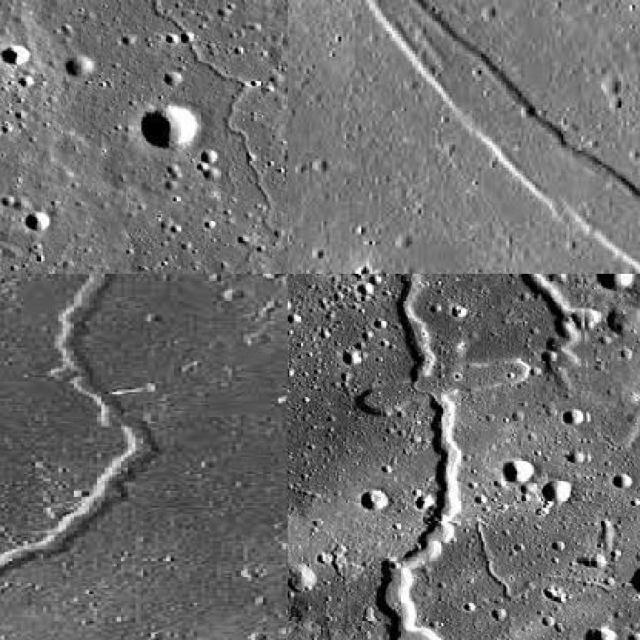rille: (287, 0, 638, 272), (0, 274, 169, 638), (101, 0, 286, 272), (0, 274, 286, 437), (374, 274, 463, 638), (483, 274, 599, 372)
